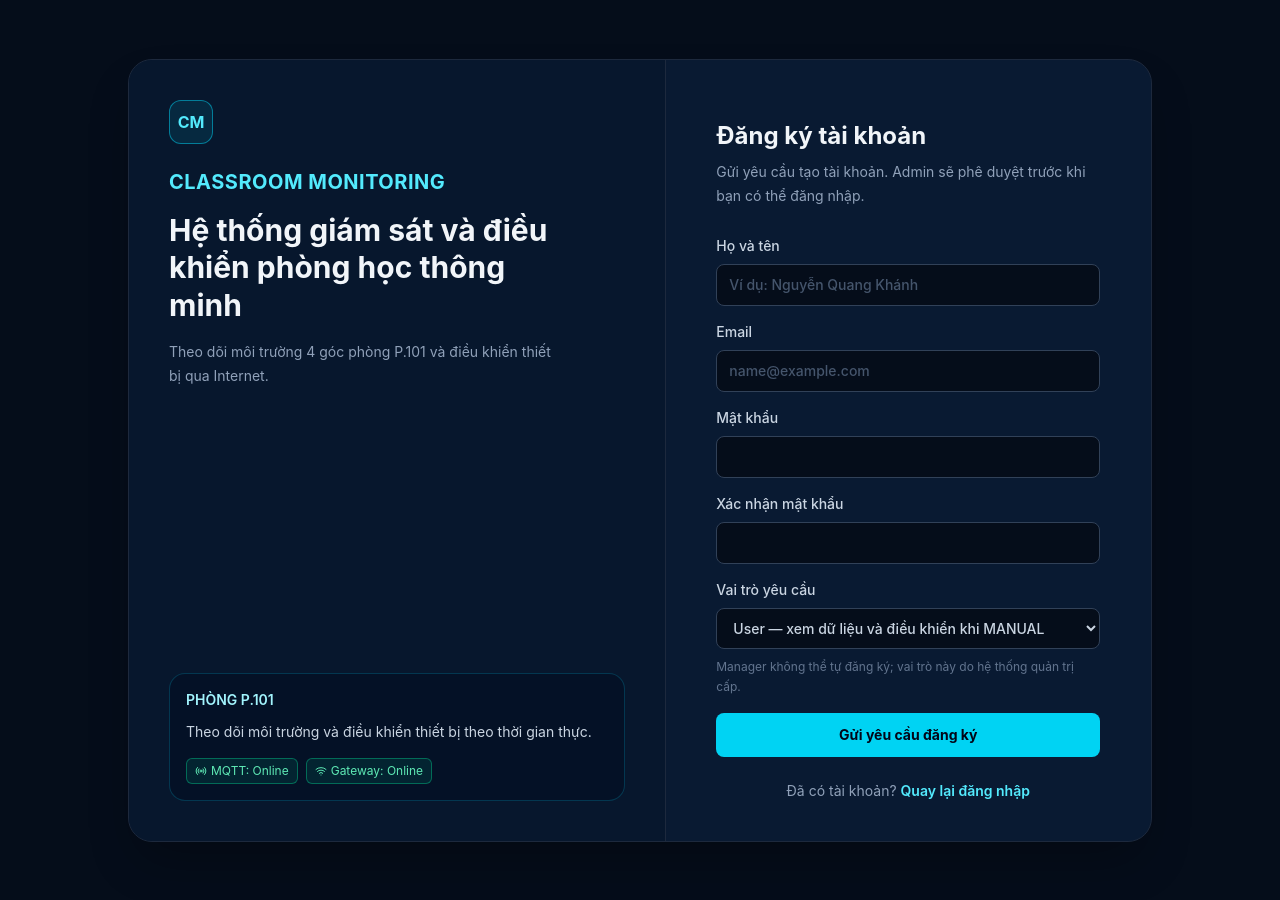
it: RegistrationPage › shows field errors when a blank registration request is submitted
The image size is (1280, 900).
Click the button "Gửi yêu cầu đăng ký": point(908, 734) left=716, top=712, right=1100, bottom=756
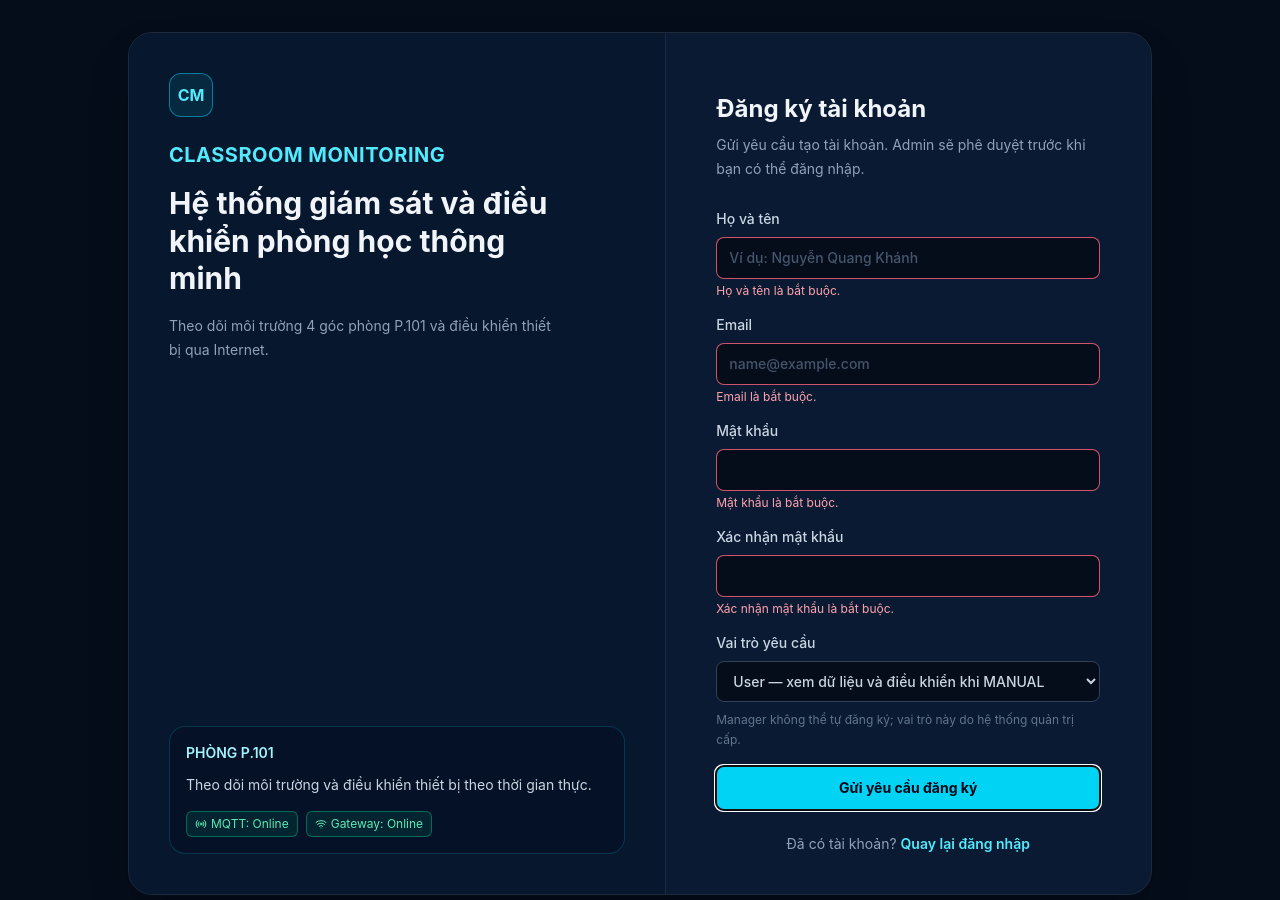
Result: the text "Họ và tên là bắt buộc." is shown at left=716, top=283, right=840, bottom=298
Result: the text "Email là bắt buộc." is shown at left=716, top=389, right=816, bottom=404
Result: the text "Mật khẩu là bắt buộc." is shown at left=716, top=495, right=839, bottom=510
